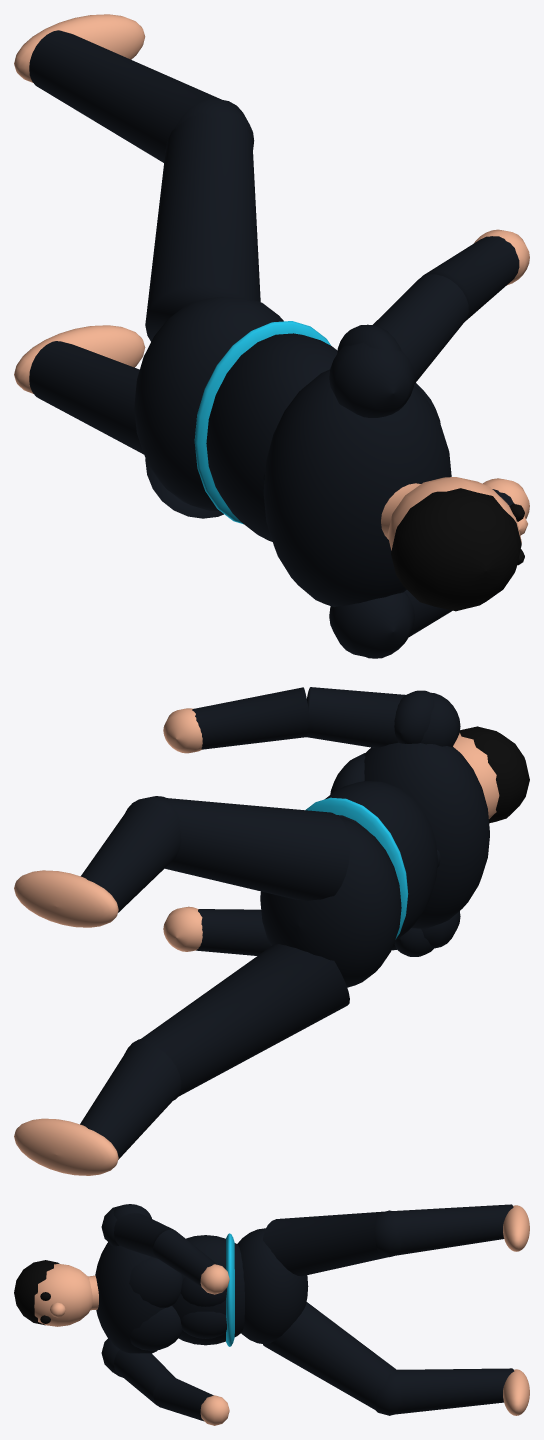
File: rider_wetsuit.obj
3 renders of one model, top to bottom at view 1: azimuth 30°, elevation 25°; view 2: azimuth 150°, elevation 25°; view 3: azimuth 270°, elevation 25°, orthographic. The views are drawn at different scales.
Bounding box in the file's own units: 67.5 × 73.6 × 171.
